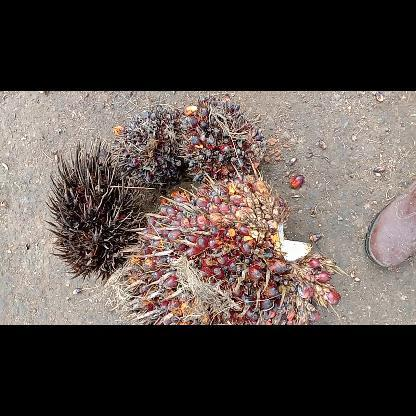Janjang kosong: (42, 134, 146, 284)
TBS abnormal: (176, 94, 270, 180), (113, 104, 187, 190)
TBS masak: (102, 172, 342, 324)
